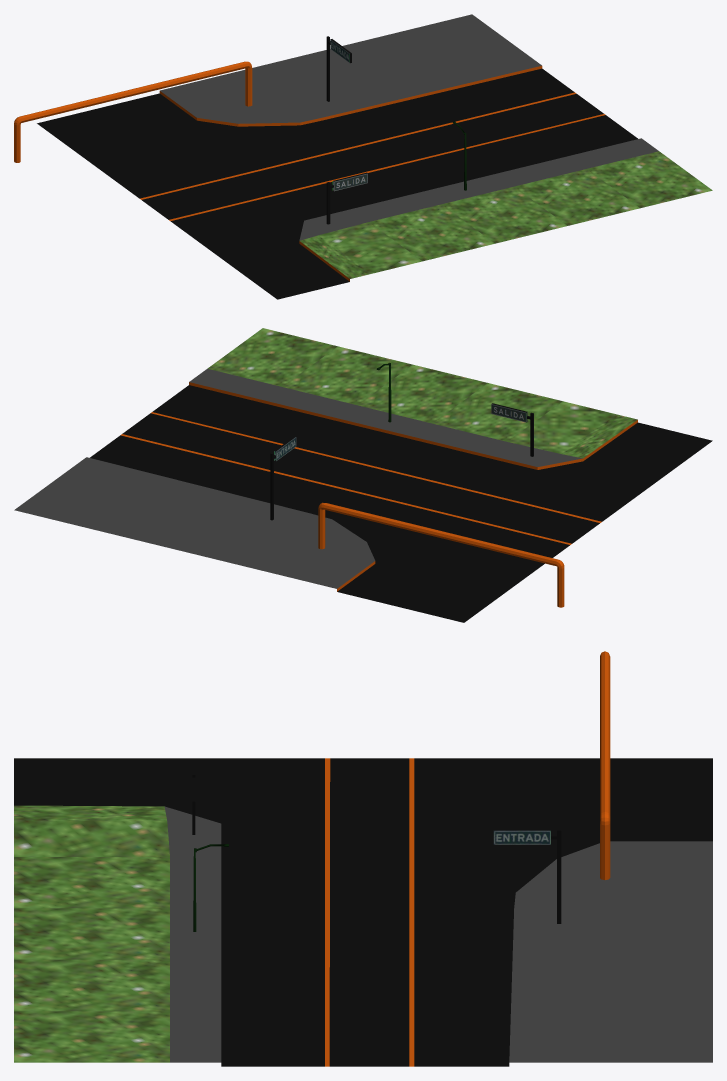
File: 08_sept_r.obj
3 renders of one model, top to bottom at view 1: azimuth 30°, elevation 25°; view 2: azimuth 150°, elevation 25°; view 3: azimuth 270°, elevation 25°, orthographic. The views are drawn at different scales.
Parts seen in each view (by area): view 1: 08_sept_r_Grid.024; view 2: 08_sept_r_Grid.024; view 3: 08_sept_r_Grid.024.
Part boxes in pixels (left/top/right/bottom): 08_sept_r_Grid.024: left=14, top=14, right=712, bottom=299; 08_sept_r_Grid.024: left=14, top=328, right=712, bottom=622; 08_sept_r_Grid.024: left=14, top=651, right=712, bottom=1066.
Bounding box in the file's own units: 18.19 × 2.35 × 15.32.
Materials: 5 (1 with a texture image).
